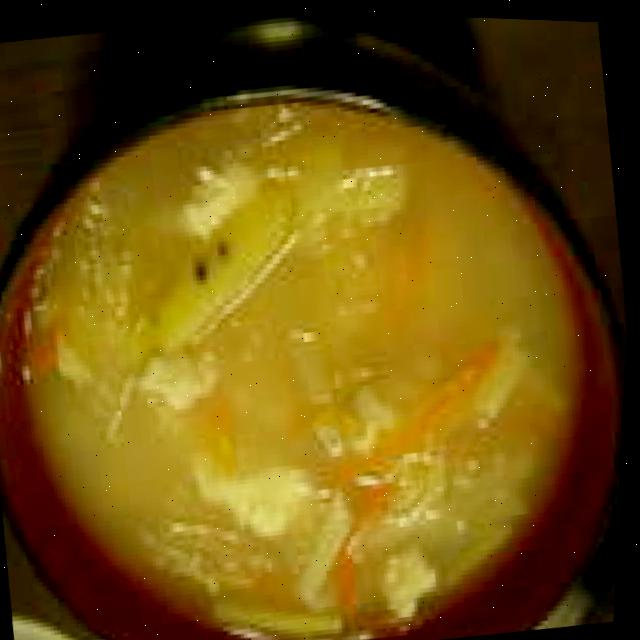蔬菜料理: (0, 50, 638, 640)
